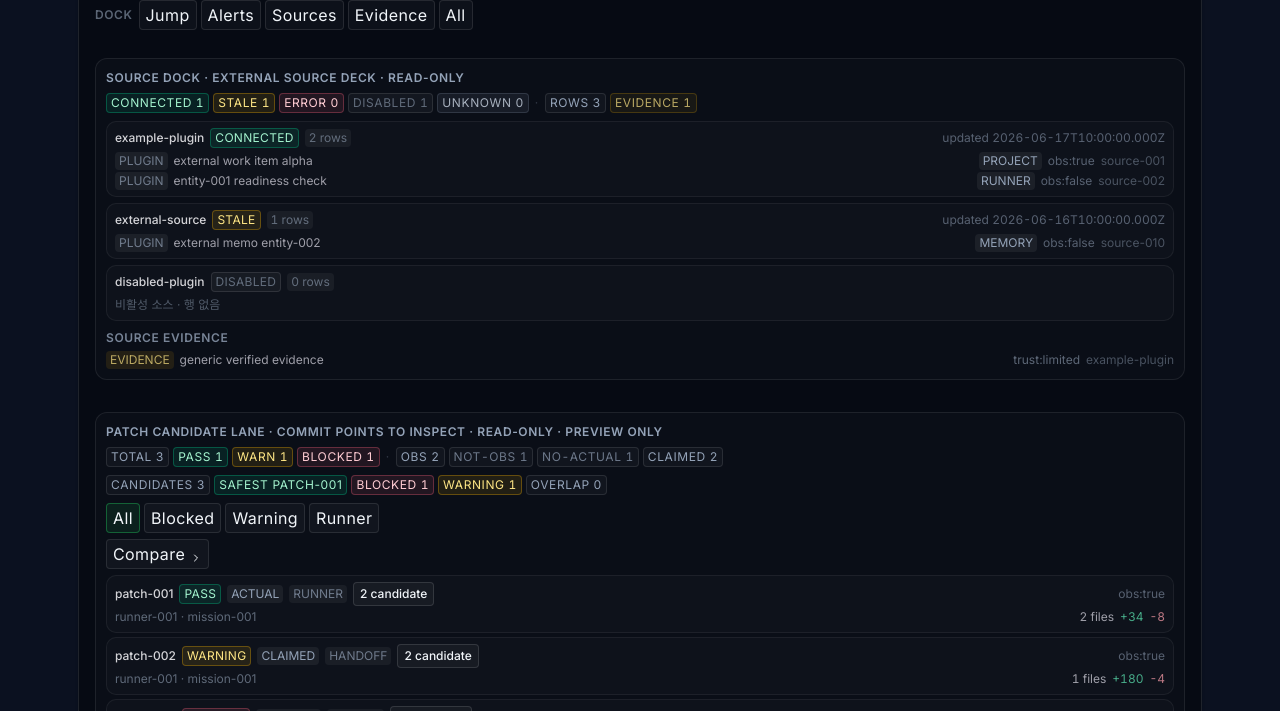
Batch 15 LINE E — source detail drawer (zero-button, view-only) › clicking an evidence row opens an evidence drawer (suggested, never trusted)
(page scrolled)
What coordinates should you click on to do the following:
click the button with test id "plugin-evidence-0"
I would click on:
 (140, 360)
Its box is [106,351,1174,369].
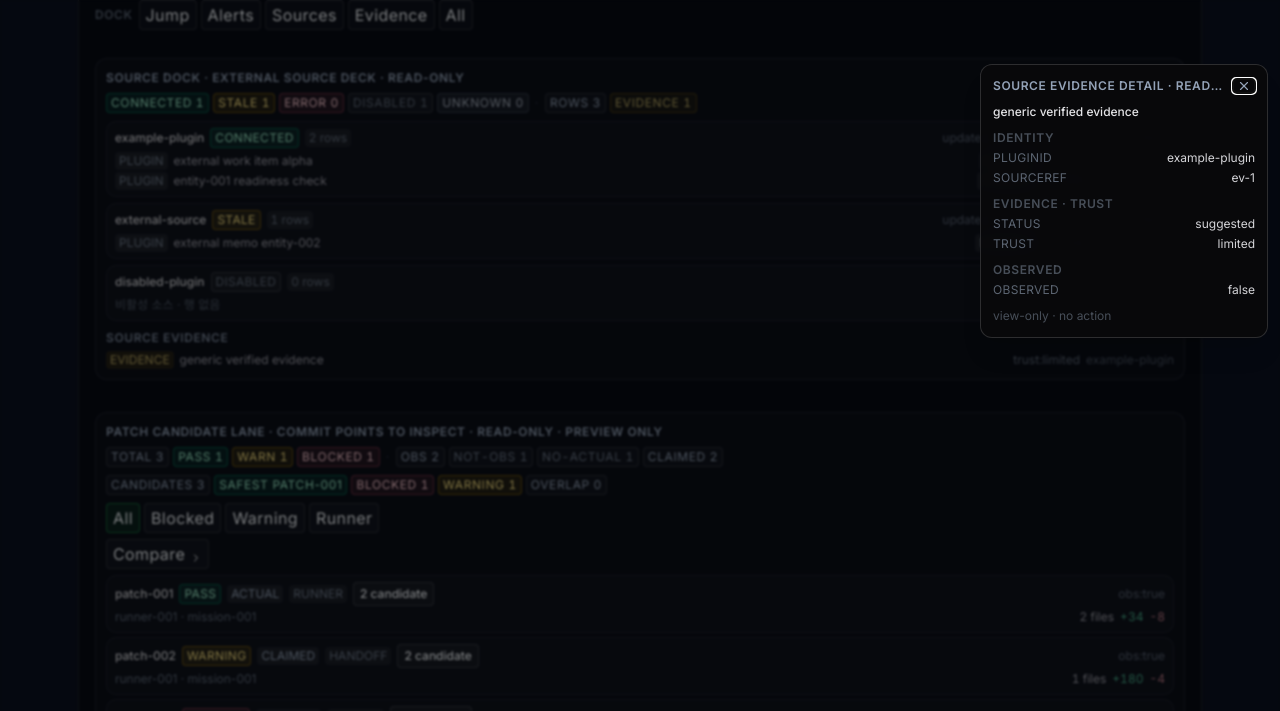
Now the element with test id "source-detail-field-status" shows "suggested", box [1195,216,1255,231]
Now the element with test id "source-detail-field-observed" shows "false", box [1228,282,1255,297]
